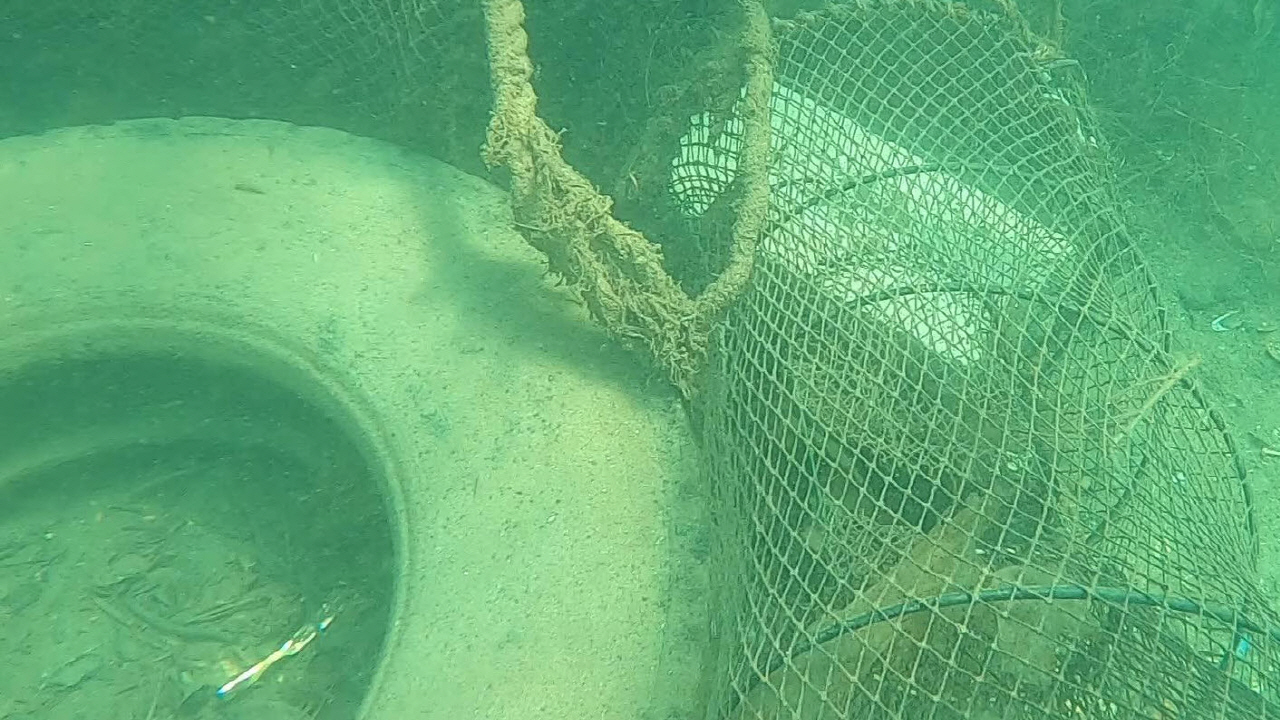spring fish trap: (615, 0, 1280, 720)
tire: (0, 114, 715, 720)
